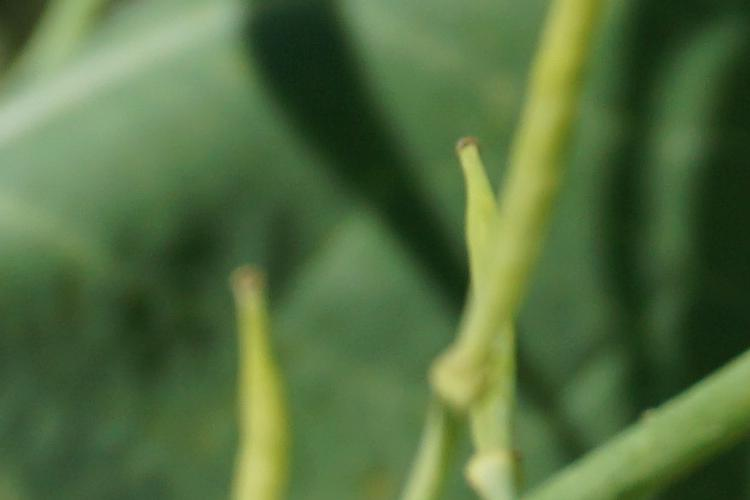pod: (406, 7, 623, 396), (435, 133, 523, 483), (215, 262, 312, 489)
